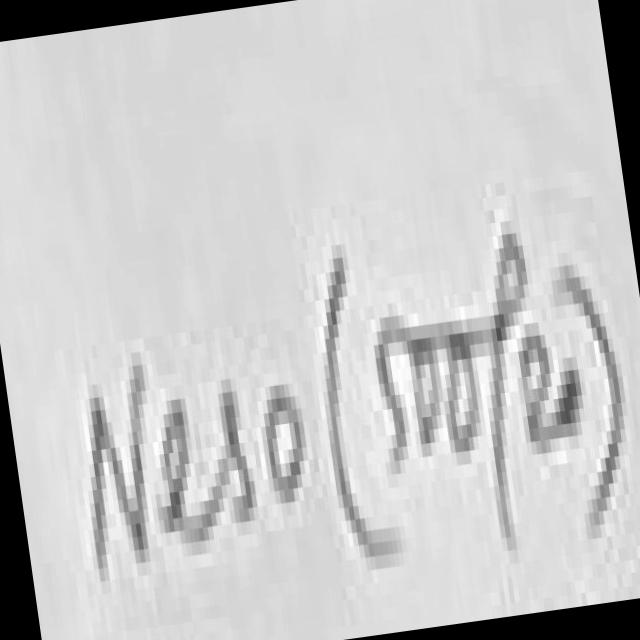0: (412, 338, 443, 450), (451, 345, 481, 452), (561, 370, 583, 437)
2: (518, 323, 559, 450)
5: (378, 329, 411, 493)
N: (92, 365, 149, 568)
e: (164, 399, 227, 543)
o: (268, 396, 308, 503)
s: (215, 393, 257, 517)
